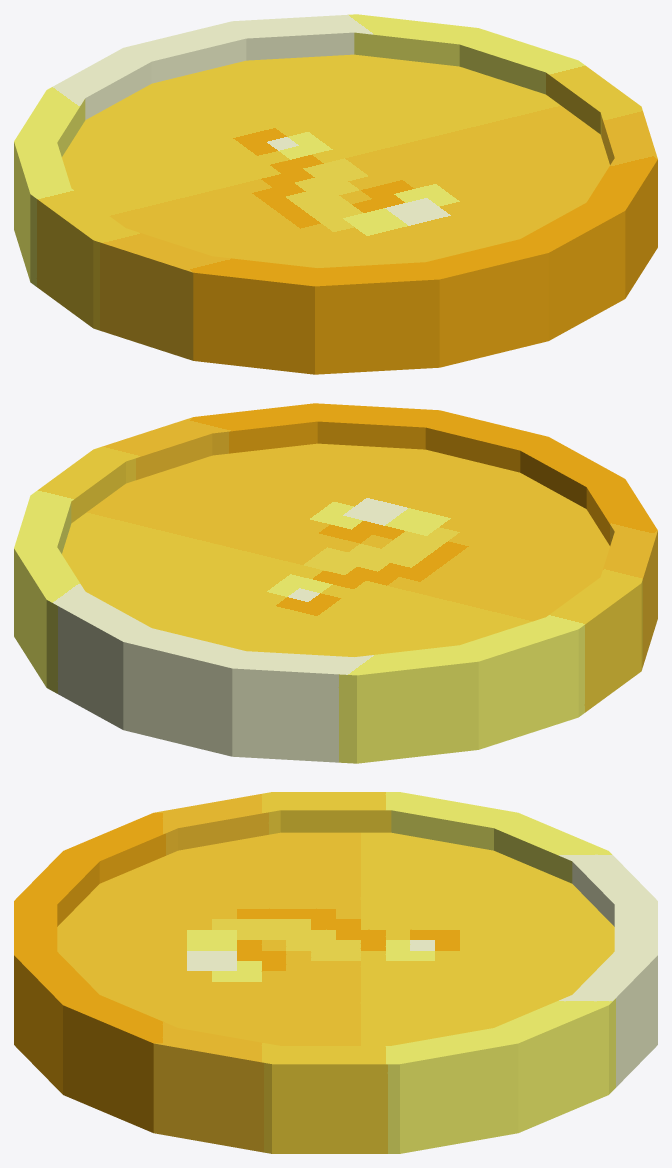
Rendered from coin.gltf.
The picture shows the model from 3 angles, top to bottom: view 1: azimuth 30°, elevation 25°; view 2: azimuth 150°, elevation 25°; view 3: azimuth 270°, elevation 25°; orthographic projection.
Visible parts, largest first — view 1: tube, cylinder; view 2: tube, cylinder; view 3: tube, cylinder.
Boxes of the visible parts, left/top/right/bottom form: tube: left=14, top=14, right=657, bottom=374; cylinder: left=62, top=54, right=609, bottom=267; tube: left=14, top=403, right=657, bottom=763; cylinder: left=62, top=443, right=609, bottom=656; tube: left=14, top=792, right=657, bottom=1153; cylinder: left=57, top=832, right=614, bottom=1045.
Bounding box in the file's own units: 0.8125 × 0.125 × 0.8125.
